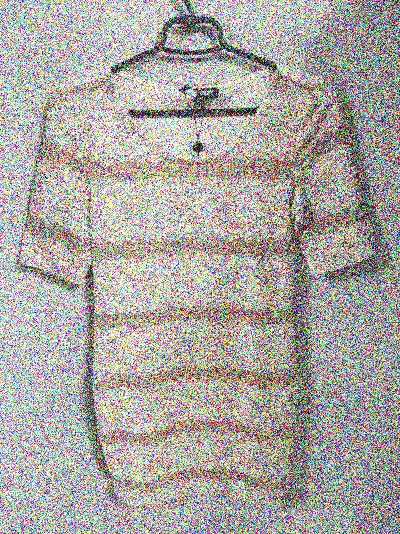Dress: (12, 51, 364, 502)
